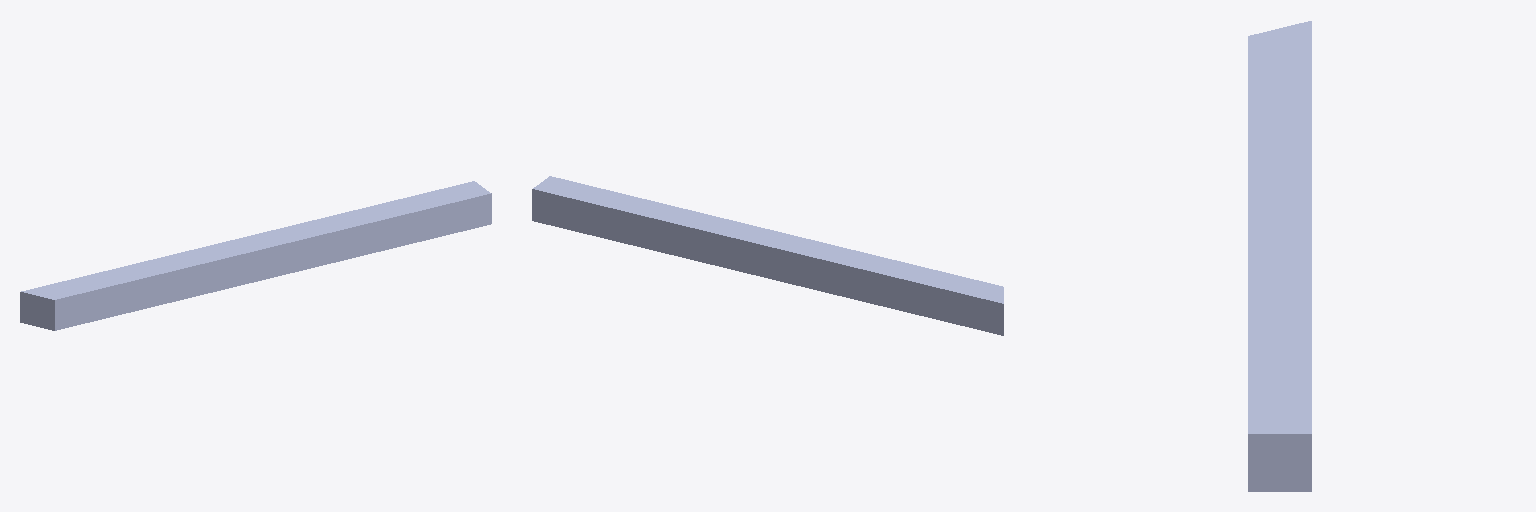
The robot description file, URDF, robot "road6":
<?xml version="1.0" encoding="utf-8"?>
<!-- This URDF was automatically created by SolidWorks to URDF Exporter! Originally created by [author] ([email redacted]) 
     Commit Version: 1.6.0-4-g7f85cfe  Build Version: 1.6.7995.38578
     For more information, please see http://wiki.ros.org/sw_urdf_exporter -->
<robot
  name="road6">
  <link
    name="base_link">
    <inertial>
      <origin
        xyz="0.449415307854897 0.01 0.209936091222856"
        rpy="0 0 0" />
      <mass
        value="0.120452994616207" />
      <inertia
        ixx="8.02970767108465E-06"
        ixy="-3.04697881241787E-21"
        ixz="-1.15891746160127E-06"
        iyy="0.000914914653208844"
        iyz="5.86610257826446E-22"
        izz="0.00091491514517884" />
    </inertial>
    <visual>
      <origin
        xyz="0 0 0"
        rpy="0 0 0" />
      <geometry>
        <mesh
          filename="package://road6/meshes/base_link.STL" />
      </geometry>
      <material
        name="">
        <color
          rgba="0.792156862745098 0.819607843137255 0.933333333333333 1" />
      </material>
    </visual>
    <collision>
      <origin
        xyz="0 0 0"
        rpy="0 0 0" />
      <geometry>
        <mesh
          filename="package://road6/meshes/base_link.STL" />
      </geometry>
    </collision>
  </link>
</robot>

--- Facts derived from the render (not from the file) ---
Views: 3 orthographic renders of the robot side by side, from view 1: azimuth 30°, elevation 25°; view 2: azimuth 150°, elevation 25°; view 3: azimuth 270°, elevation 25°.
Model road6 with 1 links and 0 joints (none), rooted at base_link, posed every joint at zero.
Links seen in each view (by area): view 1: base_link; view 2: base_link; view 3: base_link.
Link boxes in pixels (x1,y1,x2,y2): base_link: (20,181,491,330); base_link: (532,176,1003,335); base_link: (1248,21,1311,491).
Size in the robot's own frame: 0.3069 by 0.02 by 0.02 metres.
Meshes: 1 distinct files referenced, 1 mesh visuals loaded (1 binary STL).